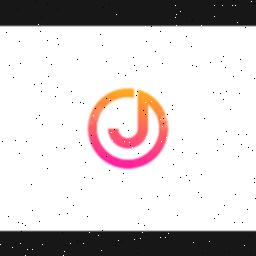j: (106, 84, 154, 150)
